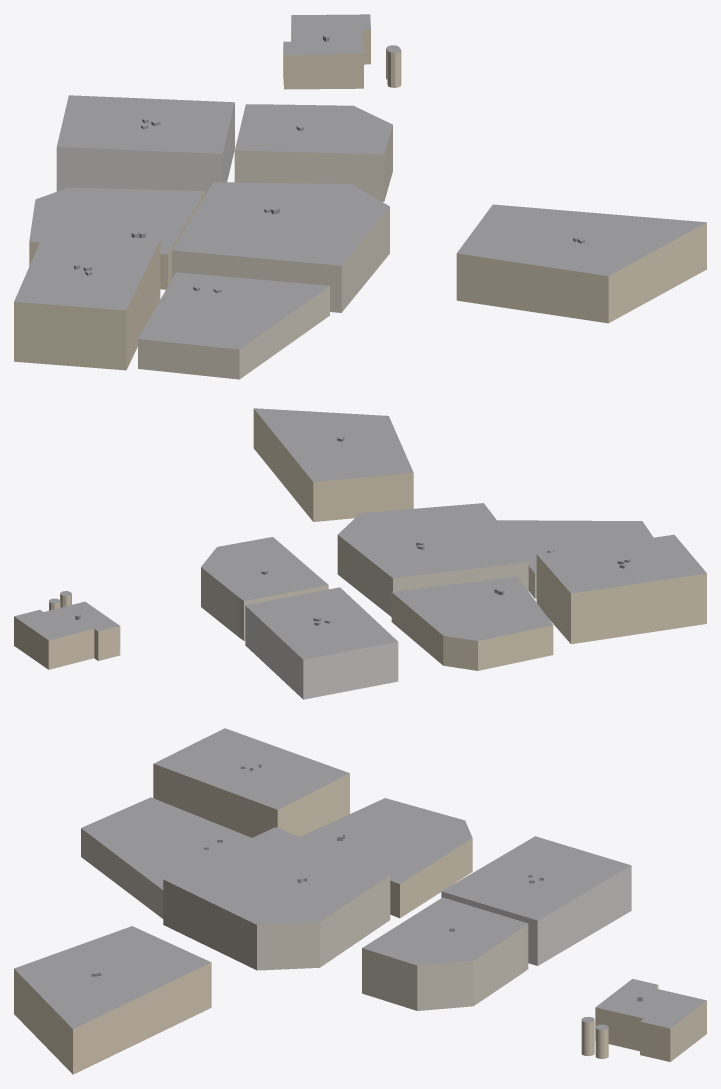
File: building_2_2.glb
3 renders of one model, top to bottom at view 1: azimuth 30°, elevation 25°; view 2: azimuth 150°, elevation 25°; view 3: azimuth 270°, elevation 25°, orthographic. The views are drawn at different scales.
Parts seen in each view (by area): view 1: roof, sandstone, concrete_warm, concrete_light; view 2: roof, sandstone, concrete_warm, concrete_light; view 3: roof, sandstone, concrete_warm, concrete_light.
Part boxes in pixels (left/top/right/bottom): roof: left=14, top=14, right=706, bottom=349; sandstone: left=14, top=18, right=706, bottom=370; concrete_warm: left=138, top=125, right=392, bottom=379; concrete_light: left=56, top=102, right=234, bottom=195; roof: left=14, top=408, right=706, bottom=659; sandstone: left=14, top=409, right=706, bottom=670; concrete_warm: left=201, top=535, right=536, bottom=640; concrete_light: left=245, top=606, right=398, bottom=699; roof: left=14, top=728, right=706, bottom=1029; sandstone: left=14, top=763, right=706, bottom=1074; concrete_warm: left=81, top=828, right=528, bottom=1010; concrete_light: left=441, top=865, right=631, bottom=965.
Size of the model in its own units: 272 by 26.76 by 276.
